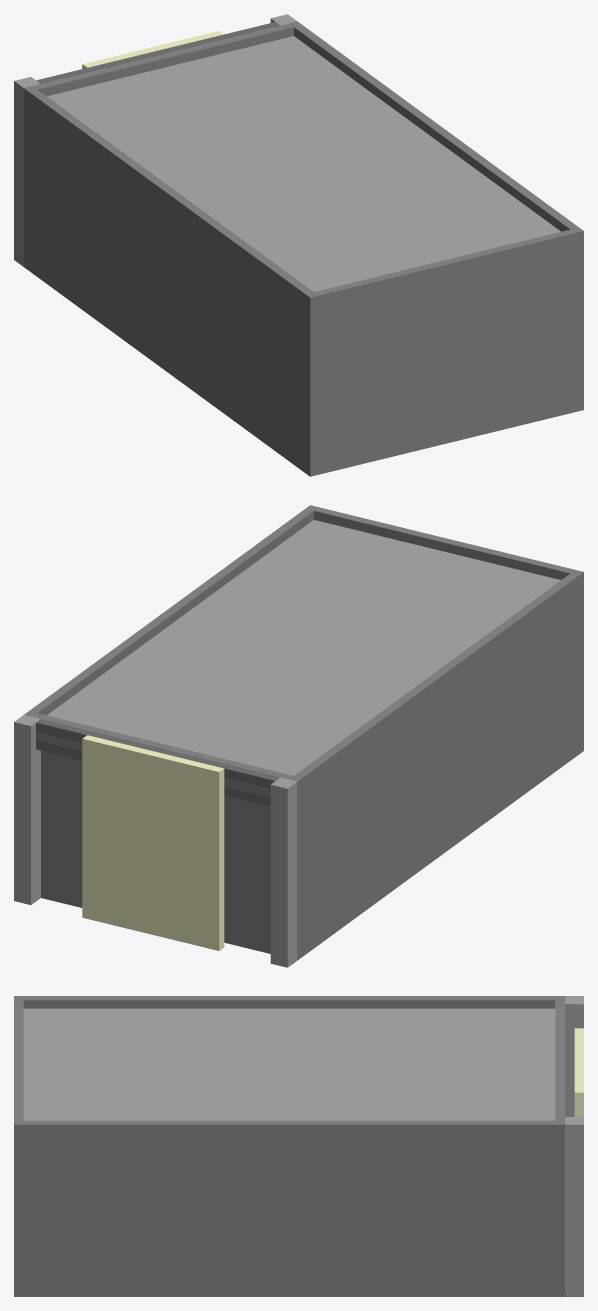
File: obj_story06.fbx
3 views of the same model, one above another, from view 1: azimuth 30°, elevation 25°; view 2: azimuth 150°, elevation 25°; view 3: azimuth 270°, elevation 25° (orthographic). The views are drawn at different scales.
Visible parts, largest first — view 1: obj_story06; view 2: obj_story06; view 3: obj_story06.
Boxes of the visible parts, x1,y1,x2,y2 form: obj_story06: [14, 14, 583, 476]; obj_story06: [14, 505, 583, 967]; obj_story06: [14, 996, 583, 1296].
Size of the model in its own units: 3.2 by 6 by 2.
Materials: 1 (1 with a texture image).
